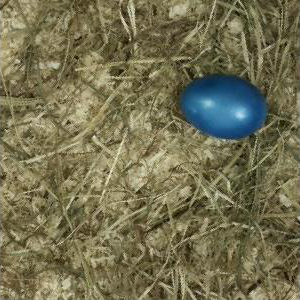egg: (181, 77, 267, 140)
